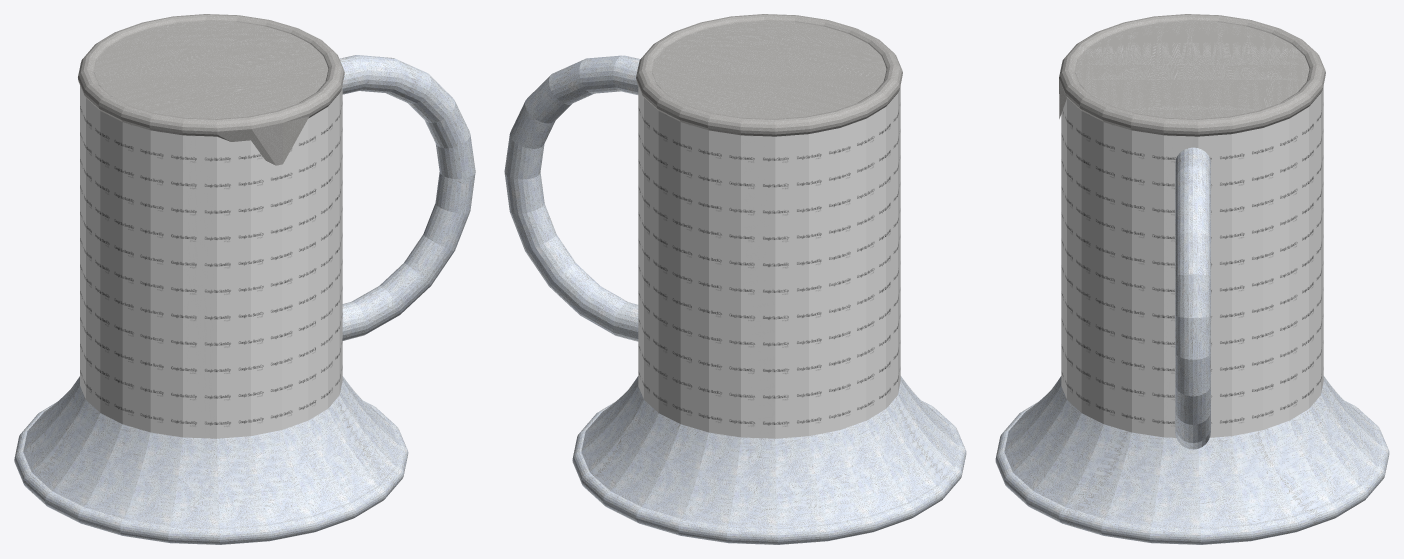
3 views of the same model, side by side, from view 1: azimuth 30°, elevation 25°; view 2: azimuth 150°, elevation 25°; view 3: azimuth 270°, elevation 25° (orthographic).
Visible parts, largest first — view 1: mesh1_mesh1-geometry, mesh2_mesh2-geometry; view 2: mesh1_mesh1-geometry, mesh2_mesh2-geometry; view 3: mesh1_mesh1-geometry, mesh2_mesh2-geometry.
Boxes of the visible parts, x1,y1,x2,y2 form: mesh1_mesh1-geometry: (14, 14, 408, 544); mesh2_mesh2-geometry: (339, 55, 475, 340); mesh1_mesh1-geometry: (572, 14, 966, 544); mesh2_mesh2-geometry: (504, 55, 640, 341); mesh1_mesh1-geometry: (995, 14, 1389, 544); mesh2_mesh2-geometry: (1175, 147, 1210, 449).
Bounding box in the file's own units: 0.6468 × 0.5672 × 0.5098.
